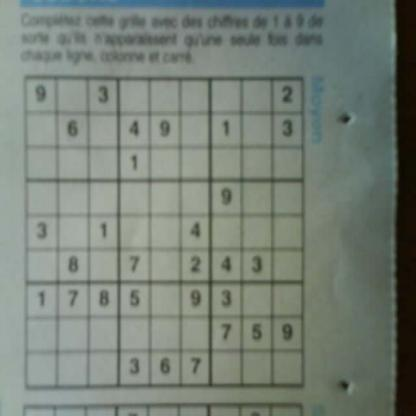sudoku: (20, 69, 308, 395)
